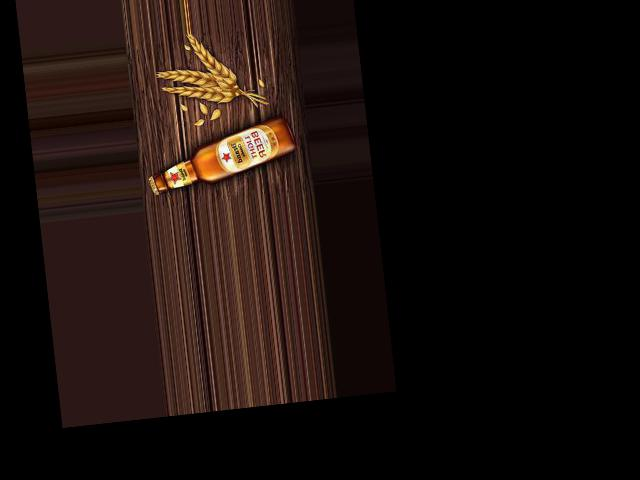beer: (143, 115, 299, 196)
